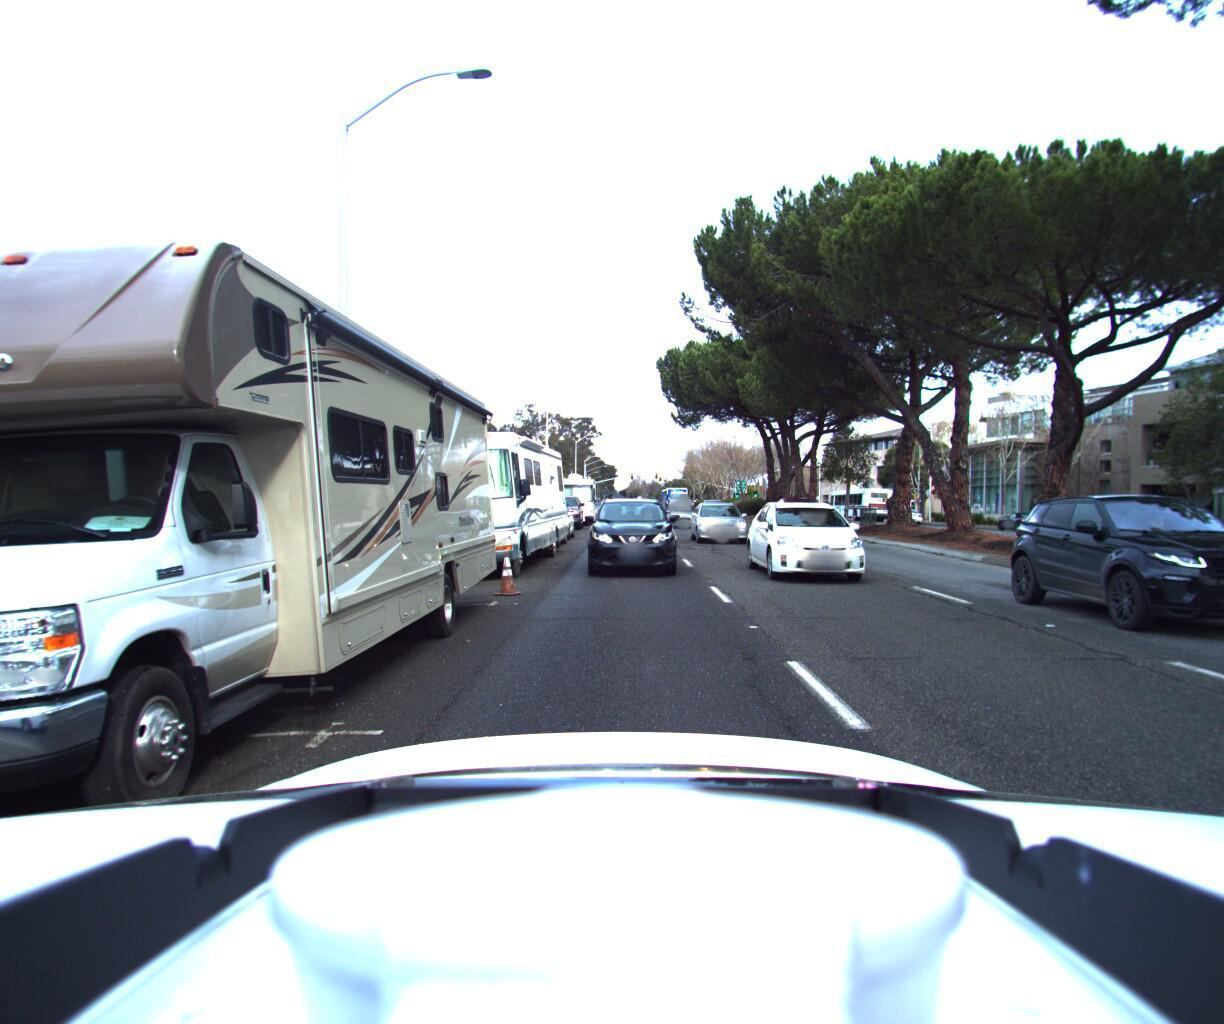bus: (823, 489, 888, 521)
car: (1033, 497, 1224, 678), (745, 499, 899, 599), (580, 499, 677, 585), (689, 502, 758, 552), (772, 501, 845, 545), (537, 496, 580, 533), (666, 502, 706, 532), (888, 510, 921, 527)
other_vehicle: (0, 119, 503, 908), (367, 407, 564, 587)
truck: (546, 474, 596, 529)
